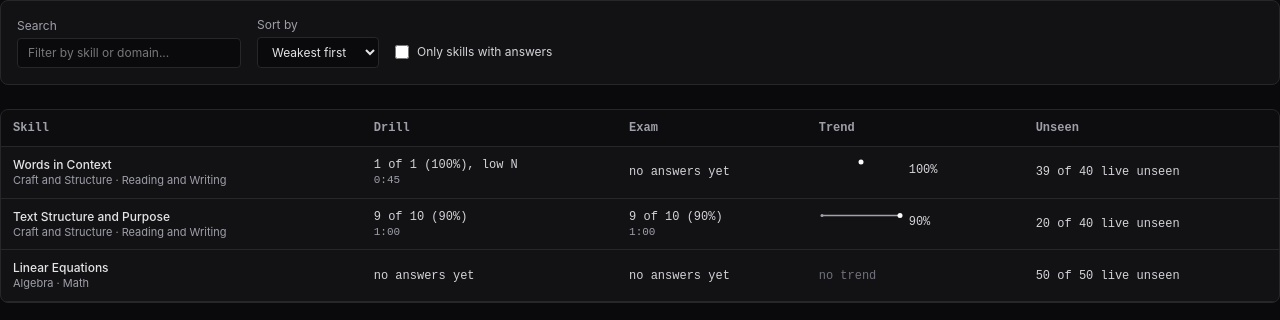
SkillsScreen › filters rows when "Only skills with answers" is checked
Click the checkbox labelled "Only skills with answers": {"x": 402, "y": 52} 395,45 -> 409,59
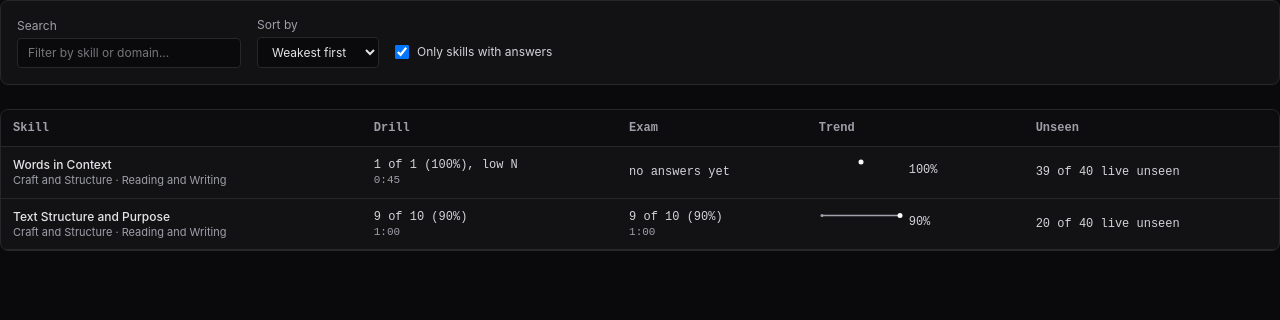
Expected: the text "Linear Equations" is gone
